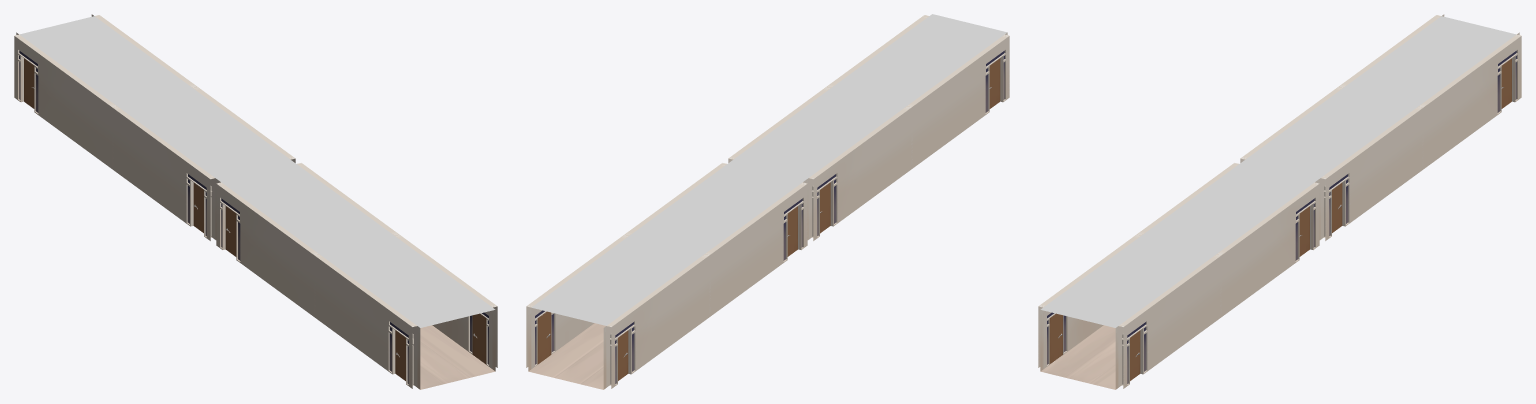
File: corridor6.fbx
3 views of the same model, side by side, from view 1: azimuth 30°, elevation 25°; view 2: azimuth 150°, elevation 25°; view 3: azimuth 330°, elevation 25° (orthographic).
Visible parts, largest first — view 1: ceiling.006, wall003.021, wall003.024, Plane.006, wall003.023, wall003.022, door.030, Cube.016, Cube.015, door.034, door.035; view 2: ceiling.006, wall003.024, wall003.021, wall003.022, Plane.006, wall003.023, Cube.018, Cube.015, Cube.016, door.034, door.035; view 3: ceiling.006, wall003.023, wall003.022, Plane.006, wall003.021, wall003.024, Cube.015, door.030, Cube.018, Cube.019, door.033.
Boxes of the visible parts, x1,y1,x2,y2 form: ceiling.006: (19,16,495,327); wall003.021: (216,180,420,389); wall003.024: (14,32,218,240); Plane.006: (420,325,494,389); wall003.023: (297,163,497,371); wall003.022: (91,14,295,162); door.030: (472,313,486,364); Cube.016: (225,206,236,256); Cube.015: (395,330,405,380); door.034: (24,58,34,108); door.035: (193,183,203,232); ceiling.006: (531,14,1006,325); wall003.024: (603,180,807,389); wall003.021: (805,32,1009,240); wall003.022: (526,163,726,371); Plane.006: (529,323,605,389); wall003.023: (728,15,928,162); Cube.018: (537,311,551,364); Cube.015: (989,58,1000,108); Cube.016: (820,182,830,233); door.034: (618,330,628,380); door.035: (787,206,797,256); ceiling.006: (1040,16,1516,327); wall003.023: (1115,180,1319,389); wall003.022: (1317,32,1521,240); Plane.006: (1041,325,1115,389); wall003.021: (1038,163,1238,371); wall003.024: (1240,14,1444,162); Cube.015: (1049,313,1062,364); door.030: (1130,330,1140,380); Cube.018: (1501,58,1511,108); Cube.019: (1332,183,1342,232); door.033: (1299,206,1309,256).
Bounding box in the file's own units: 170 × 118 × 1400.
Materials: 3 (3 with a texture image).
